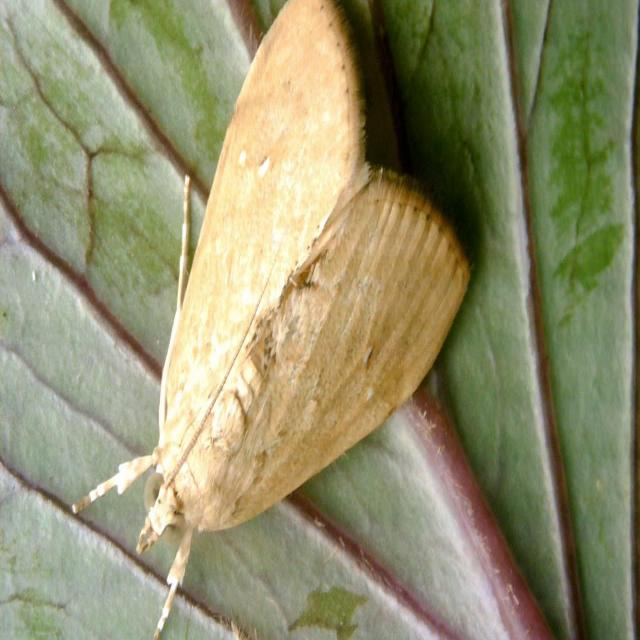BeetArmyWorm-Adult-: (56, 0, 484, 597)
